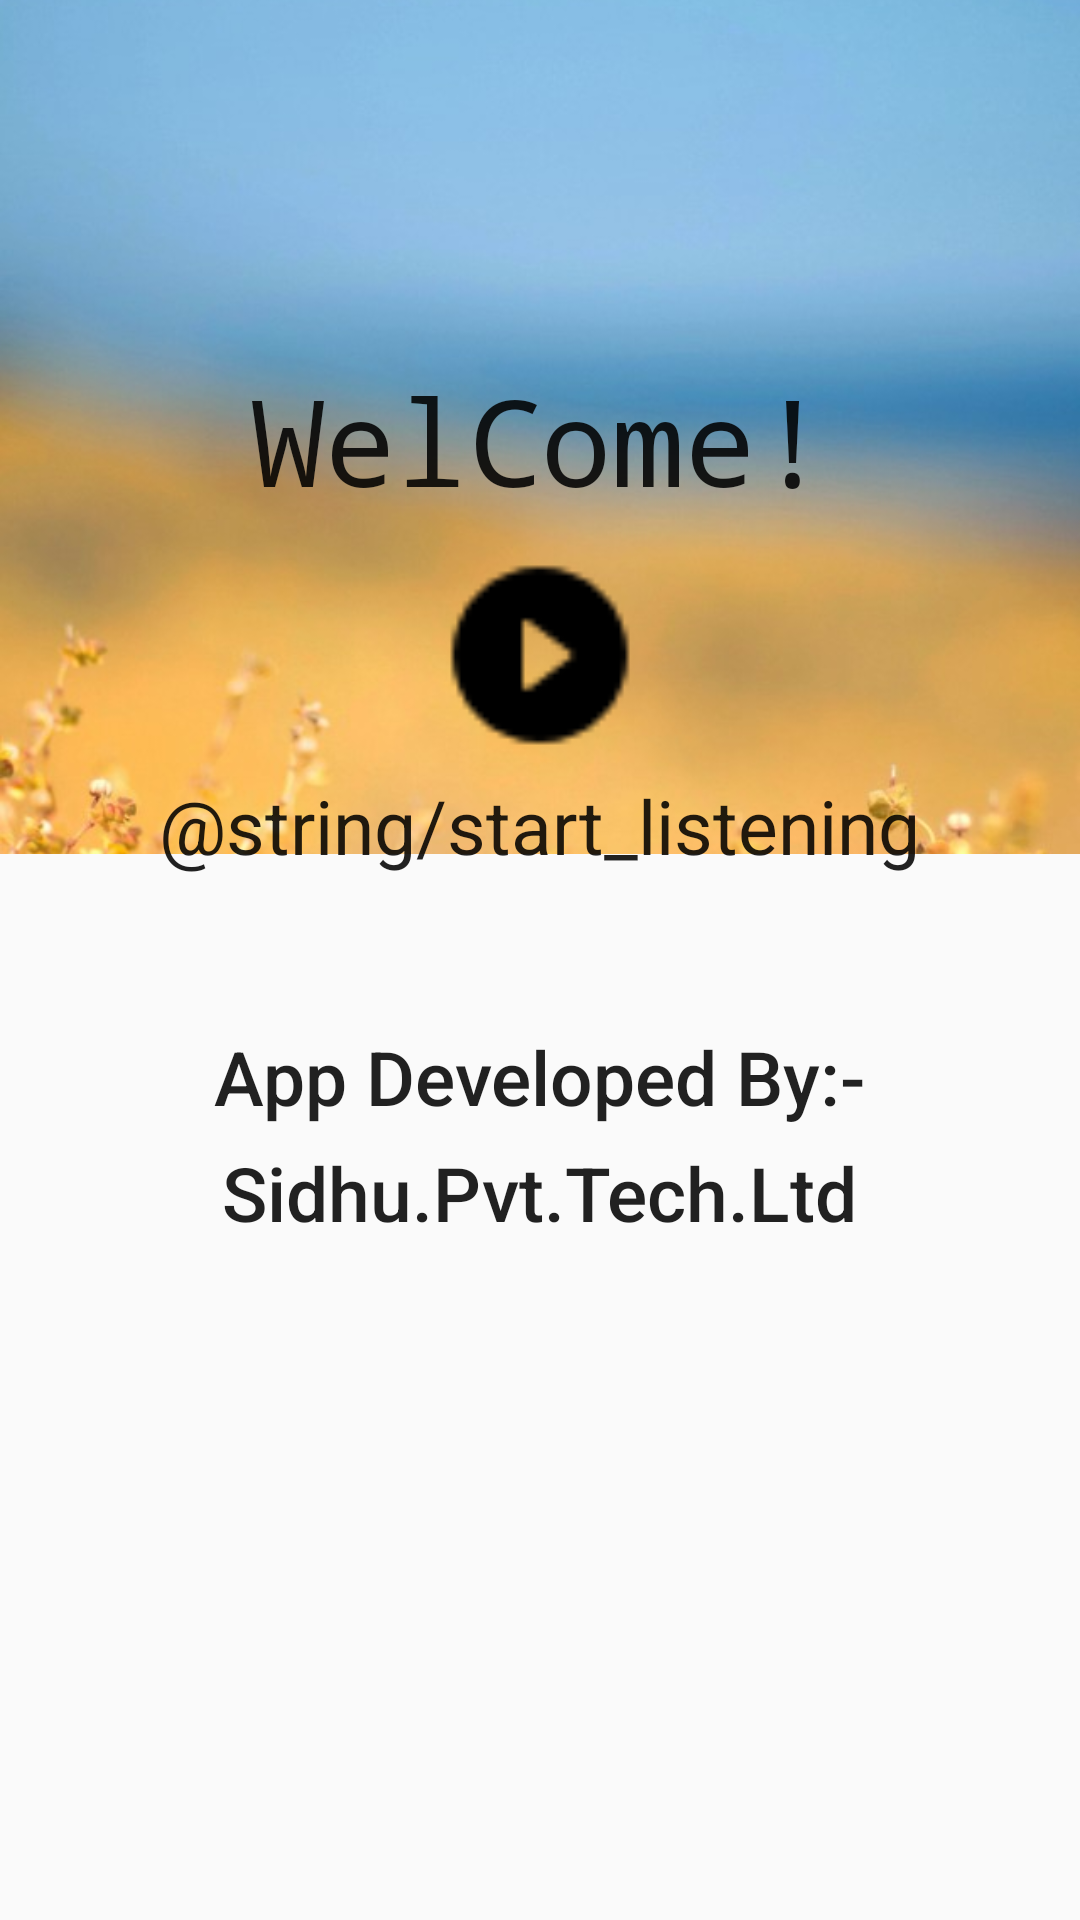

Named icons in this screenshot (1080w x 1920h) and their centers, [x,y]:
Play Icon: [540,655]
